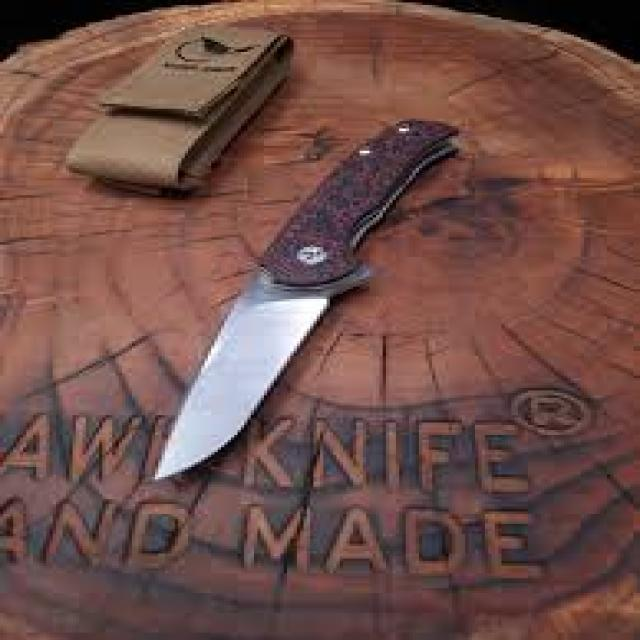knife: (149, 117, 461, 480)
